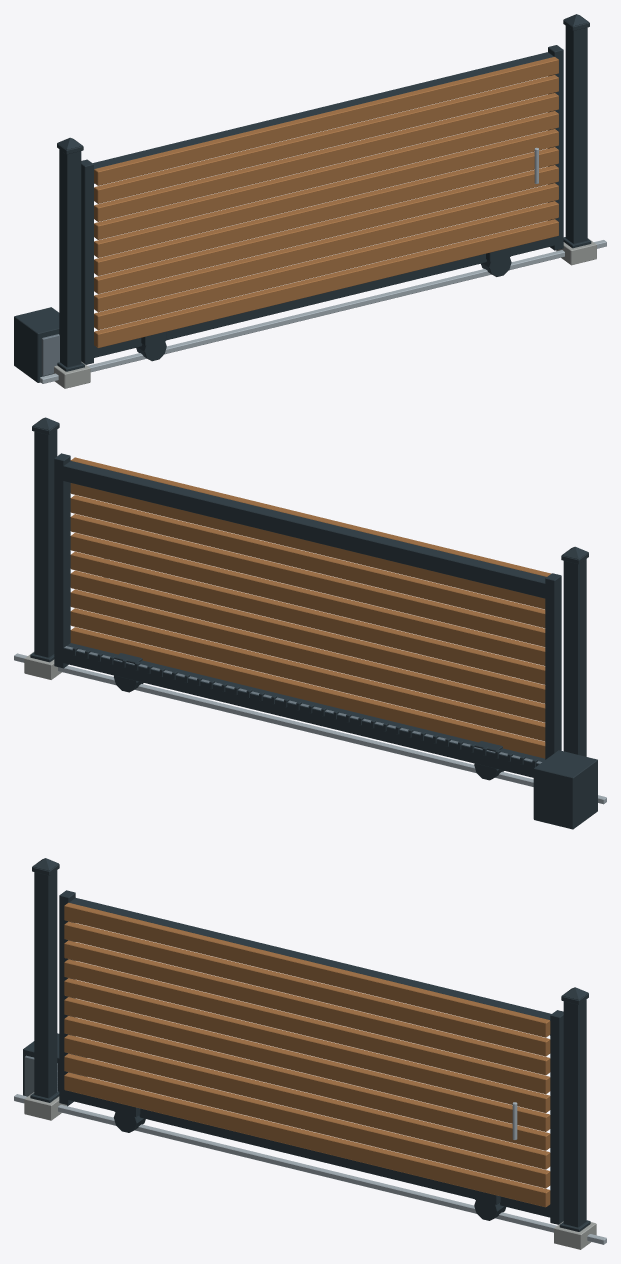
Rendered from b19_sliding_timber_driveway_gate.glb.
3 views of the same model, one above another, from view 1: azimuth 30°, elevation 25°; view 2: azimuth 150°, elevation 25°; view 3: azimuth 330°, elevation 25° (orthographic). The views are drawn at different scales.
Visible parts, largest first — view 1: b19_sliding_timber_driveway_gate; view 2: b19_sliding_timber_driveway_gate; view 3: b19_sliding_timber_driveway_gate.
Part boxes in pixels (x1,y1,x2,y2): b19_sliding_timber_driveway_gate: [14, 14, 606, 388]; b19_sliding_timber_driveway_gate: [14, 417, 606, 829]; b19_sliding_timber_driveway_gate: [14, 858, 606, 1249].
Size of the model in its own units: 4.75 by 1.95 by 0.5715.
